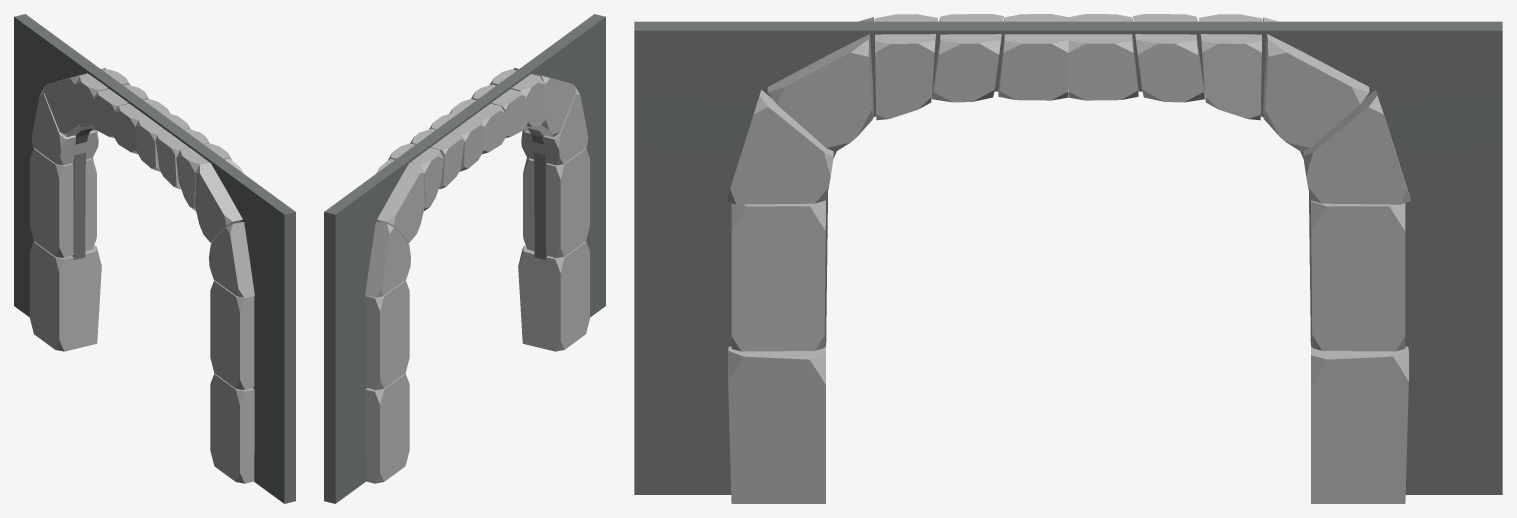
File: türbogen.obj
The picture shows the model from 3 angles, left to right: view 1: azimuth 30°, elevation 25°; view 2: azimuth 150°, elevation 25°; view 3: azimuth 270°, elevation 25°; orthographic projection. The views are drawn at different scales.
Parts seen in each view (by area): view 1: Cube.001_Cube.004; view 2: Cube.001_Cube.004; view 3: Cube.001_Cube.004.
Boxes of the visible parts, left/top/right/bottom form: Cube.001_Cube.004: left=14, top=14, right=295, bottom=503; Cube.001_Cube.004: left=324, top=14, right=605, bottom=503; Cube.001_Cube.004: left=634, top=14, right=1502, bottom=503.
Bounding box in the file's own units: 0.443 × 2.85 × 4.83.
Materials: 1 (1 with a texture image).
